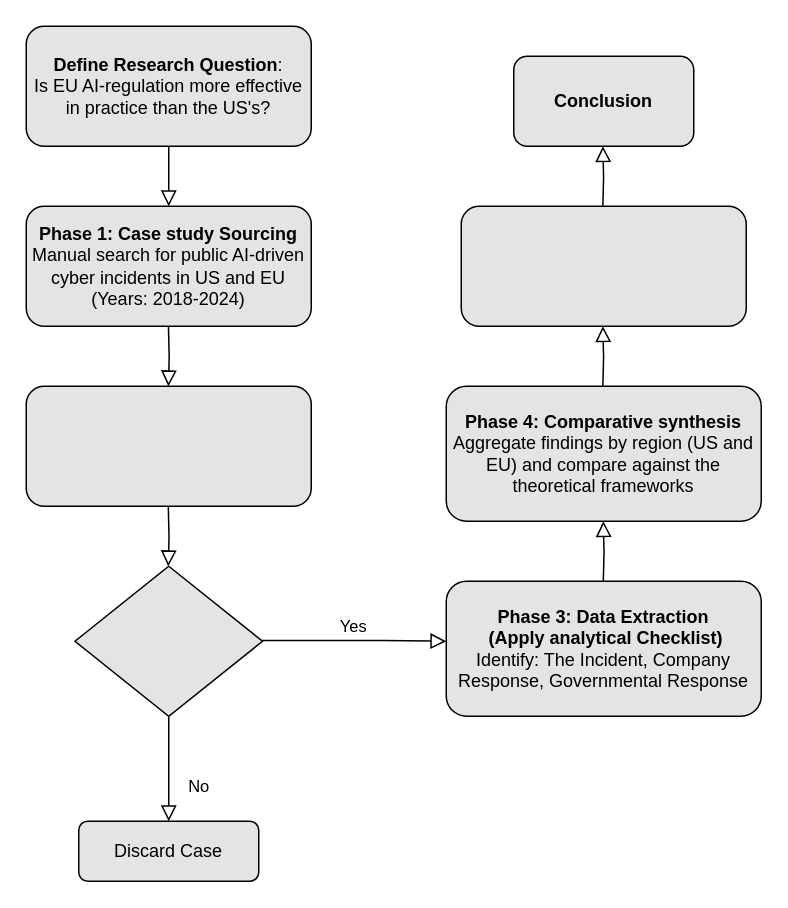
Some shapes in this 788 by 908 pixel diagram are drawn without their labels. Each missing label, with the centre of its shape:
Analysis and Findings Identify gaps between "Policy" and "Practice": point 603,265
Is case Study Verified and Relevant?: point 168,640
Phase 2: Source Verification Cross-reference sources for credibility: point 168,445
